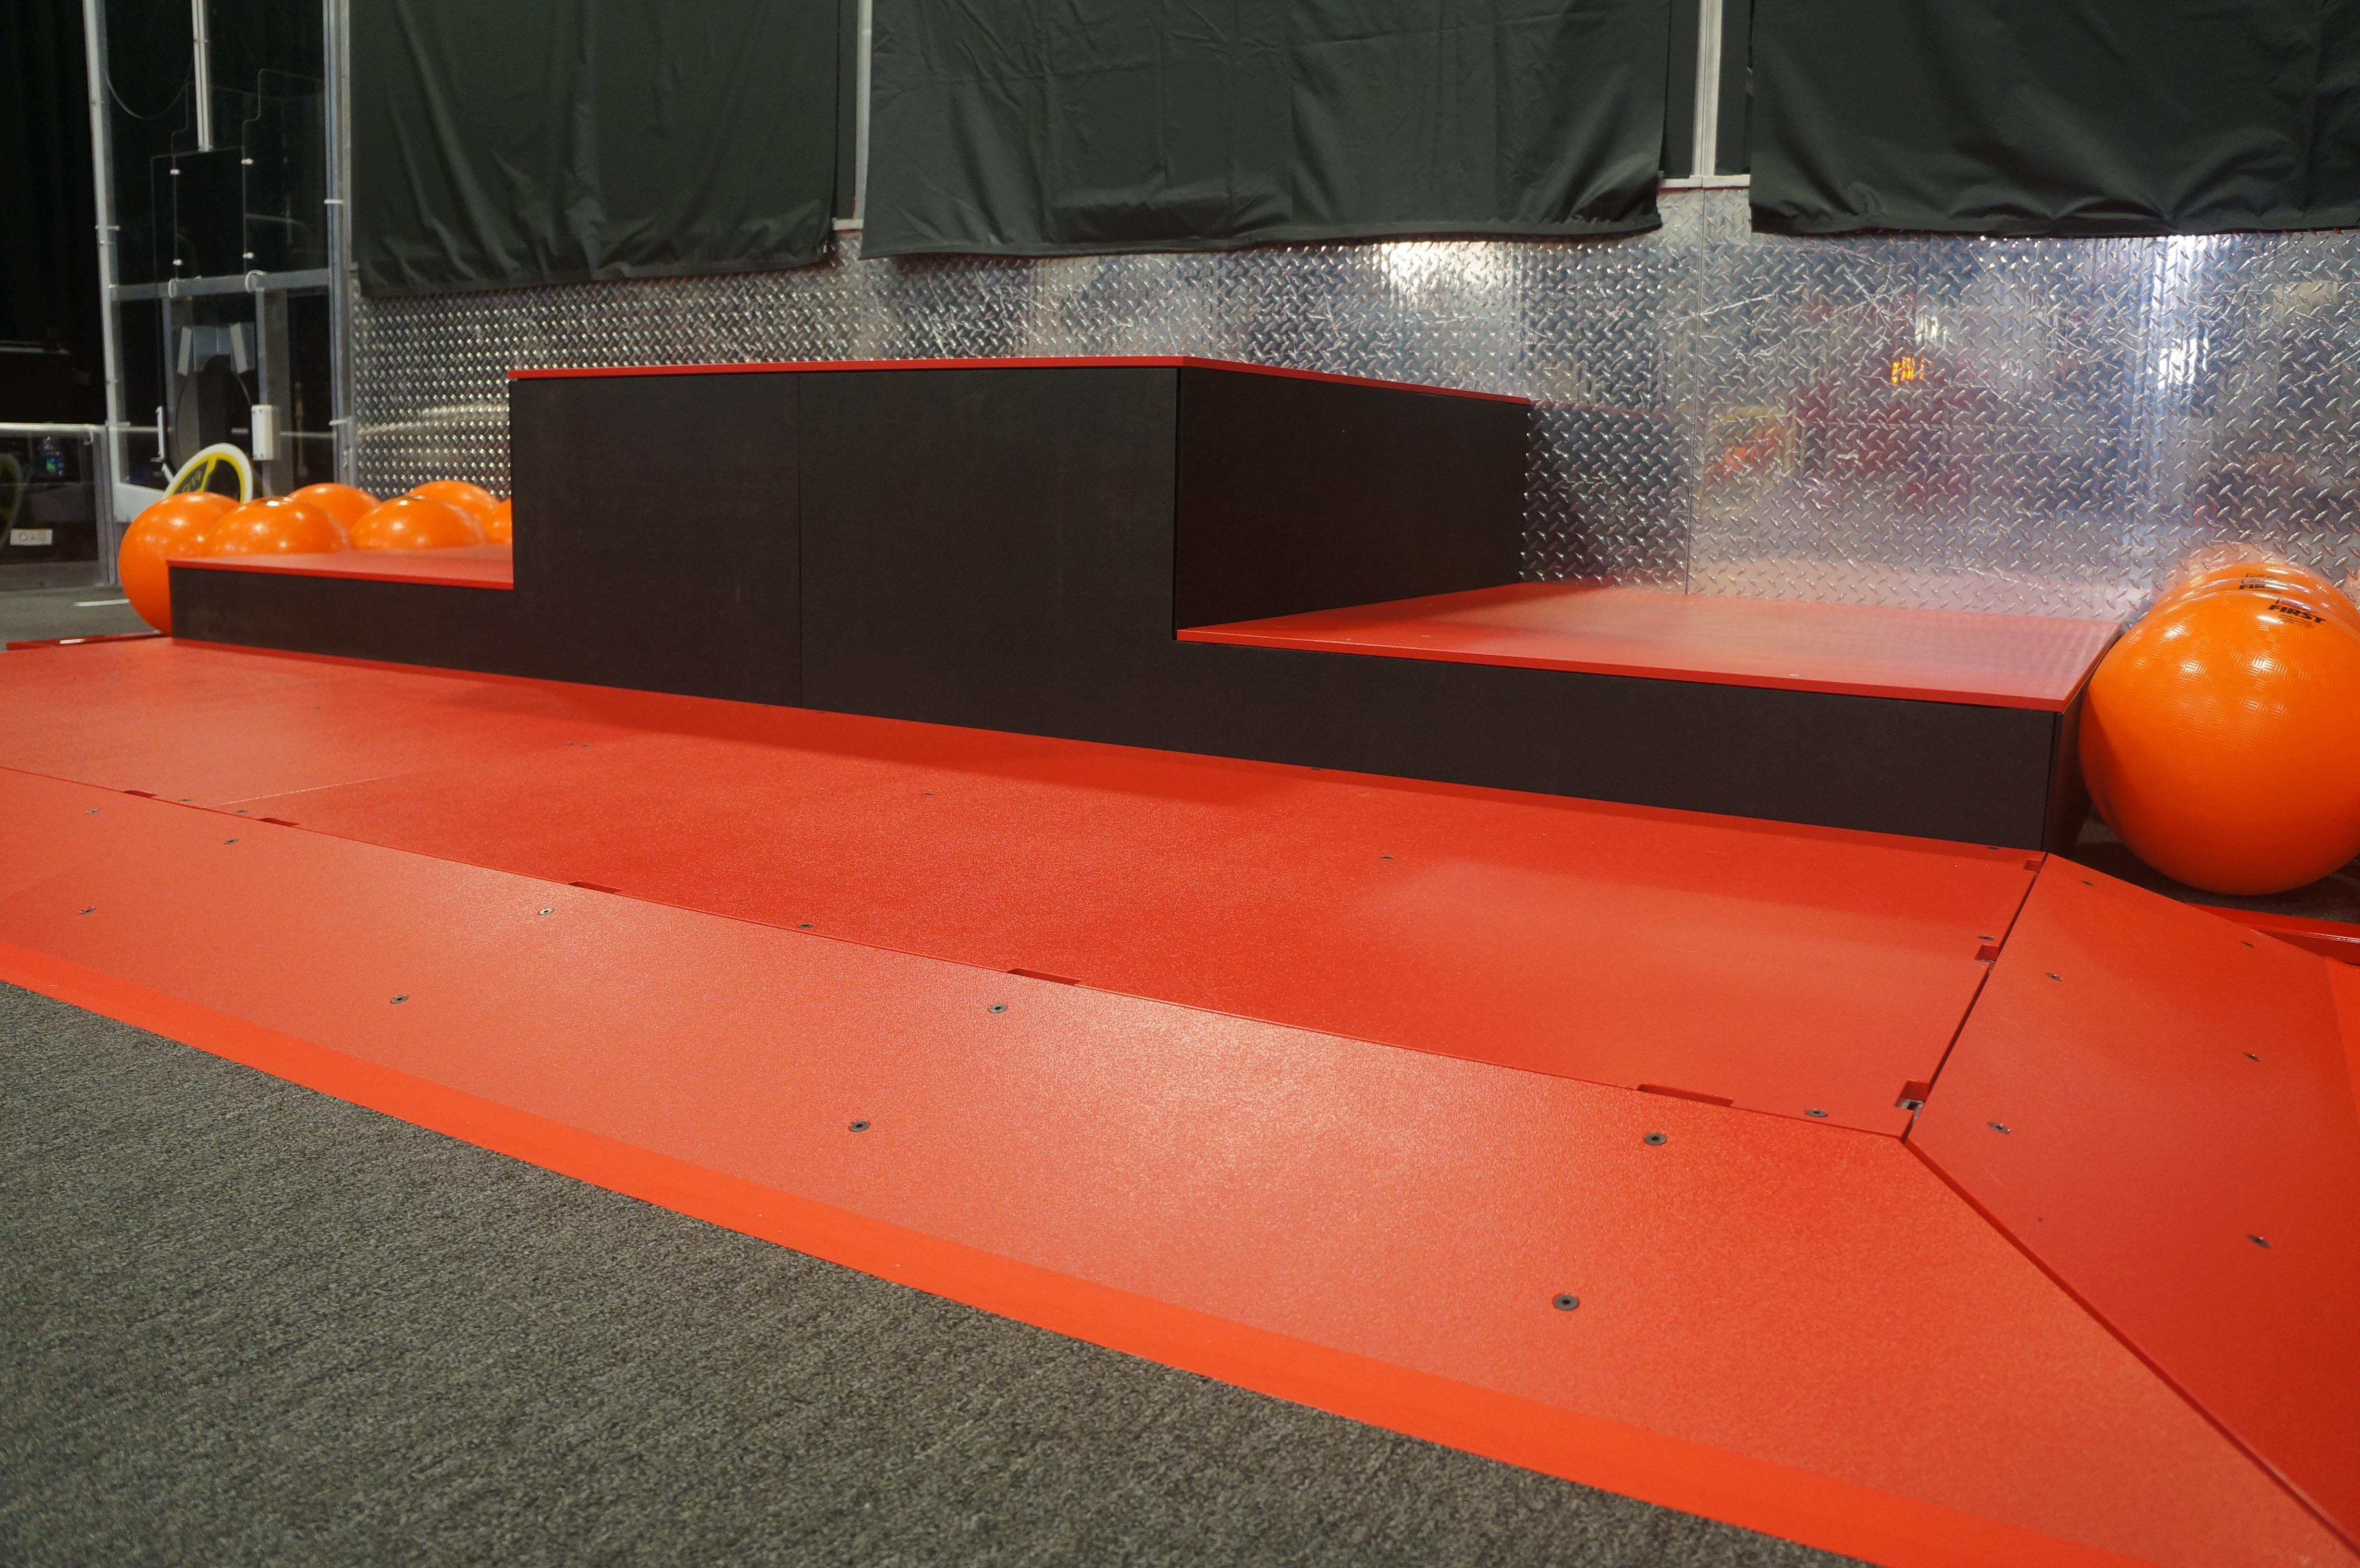Ball: (2077, 598, 2360, 898), (119, 486, 254, 635), (339, 497, 474, 556), (212, 497, 341, 556)
